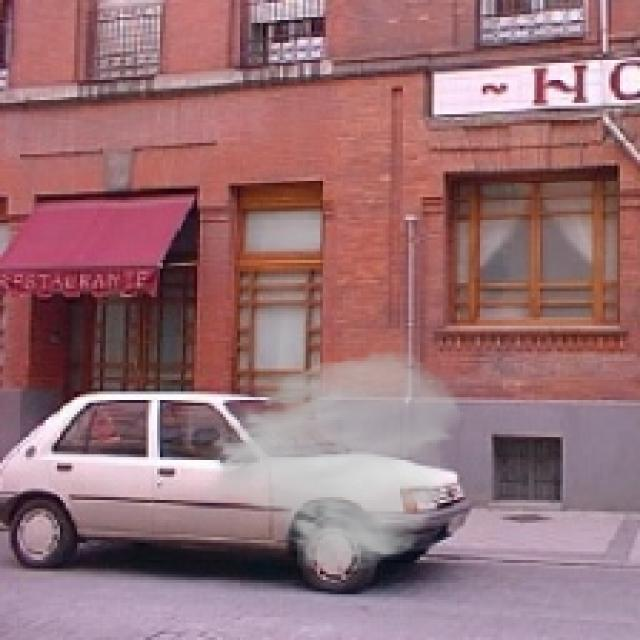smoke: (200, 349, 466, 574)
